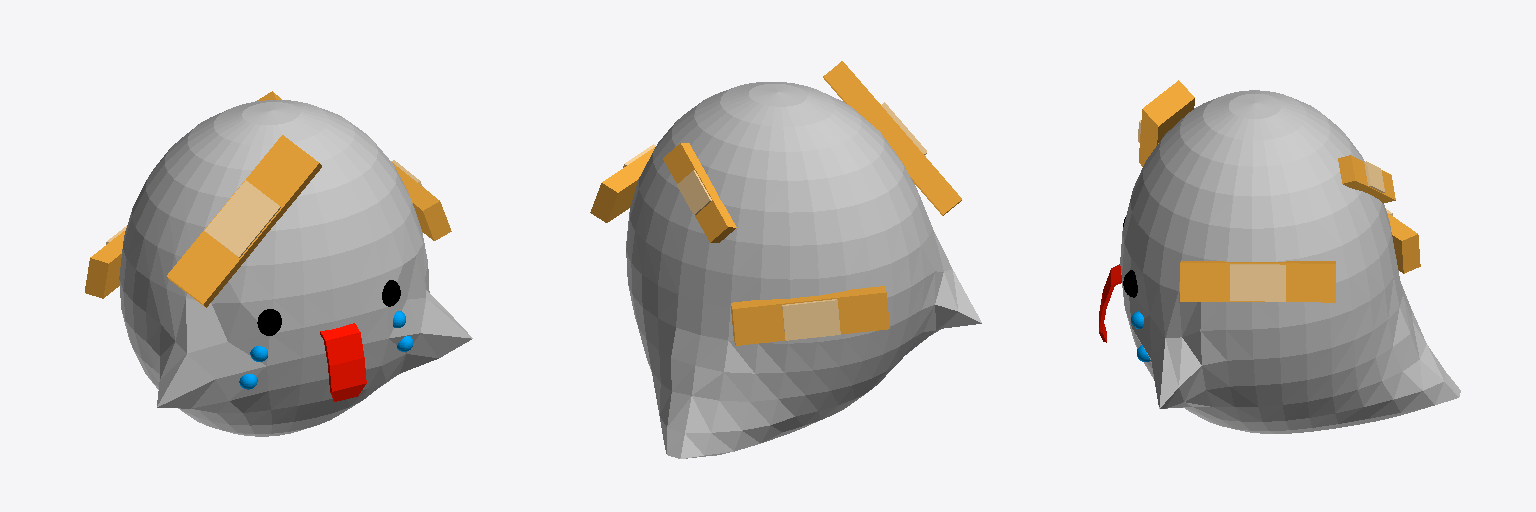
3 views of the same model, side by side, from view 1: azimuth 30°, elevation 25°; view 2: azimuth 150°, elevation 25°; view 3: azimuth 270°, elevation 25° (orthographic).
Visible parts, largest first — view 1: DamageEnemy.002, DamageEnemy.007, DamageEnemy.006, DamageEnemy.001, DamageEnemy.011, DamageEnemy.009, DamageEnemy.005; view 2: DamageEnemy.002, DamageEnemy.011, DamageEnemy.007, DamageEnemy, DamageEnemy.010, DamageEnemy.009, DamageEnemy.012; view 3: DamageEnemy.002, DamageEnemy.009, DamageEnemy.007, DamageEnemy.008, DamageEnemy, DamageEnemy.011, DamageEnemy.001.
Part boxes in pixels (x1,y1,x2,y2): DamageEnemy.002: (119,100,472,436); DamageEnemy.007: (167,135,321,307); DamageEnemy.006: (204,180,280,257); DamageEnemy.001: (320,323,366,401); DamageEnemy.011: (85,230,125,298); DamageEnemy.009: (392,162,451,240); DamageEnemy.005: (239,311,412,389); DamageEnemy.002: (626,82,981,458); DamageEnemy.011: (731,286,889,345); DamageEnemy.007: (823,61,961,215); DamageEnemy: (663,143,736,242); DamageEnemy.010: (782,299,840,340); DamageEnemy.009: (590,147,654,222); DamageEnemy.012: (677,170,711,214); DamageEnemy.002: (1120,90,1460,433); DamageEnemy.009: (1180,260,1335,302); DamageEnemy.007: (1139,80,1194,166); DamageEnemy.008: (1230,264,1285,301); DamageEnemy: (1338,155,1395,203); DamageEnemy.011: (1387,213,1420,273); DamageEnemy.001: (1099,264,1121,342).
Bounding box in the file's own units: 1 × 1 × 1.
Materials: 13 (5 with a texture image).